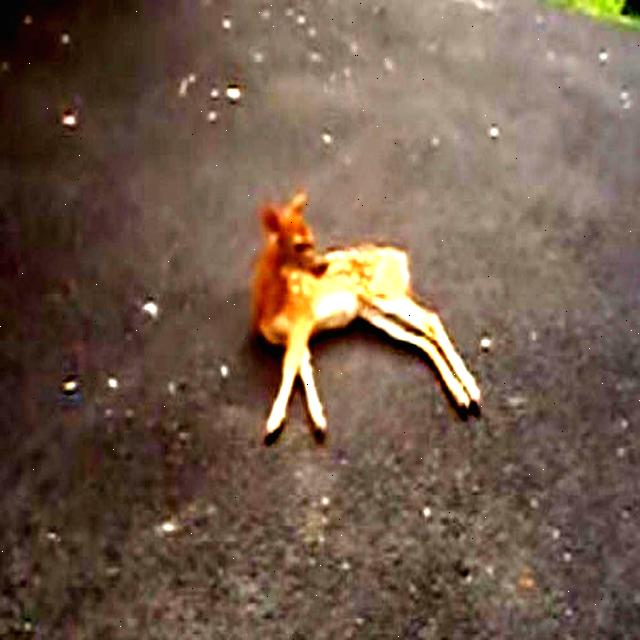deer: (249, 172, 334, 293)
